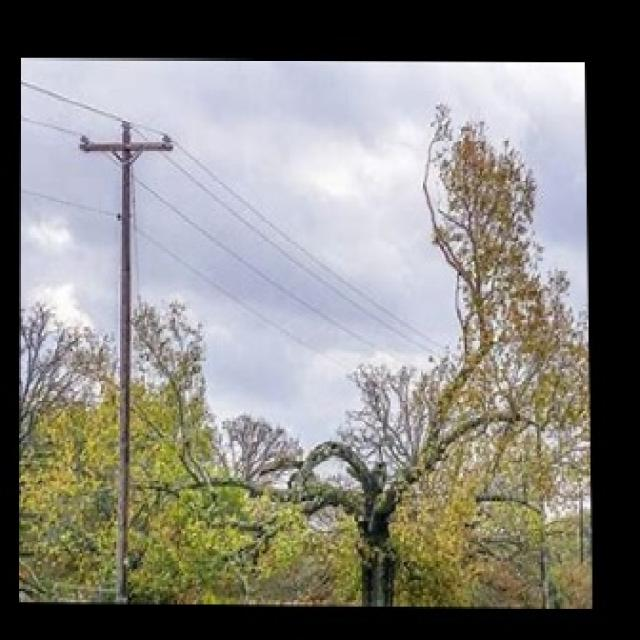utility poles: (74, 98, 171, 605)
